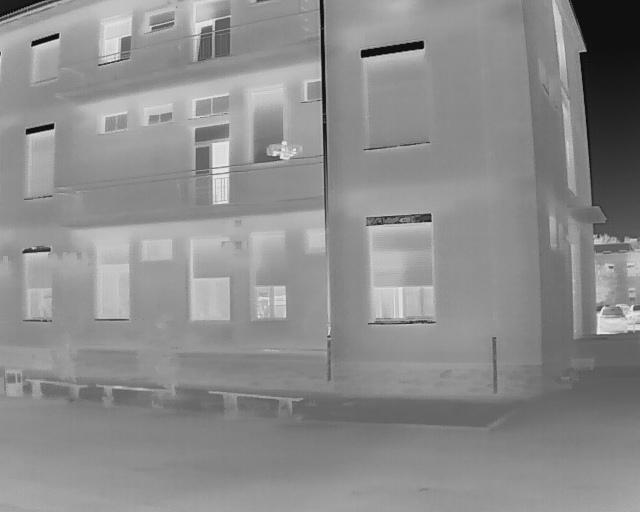drone: (264, 140, 306, 162)
